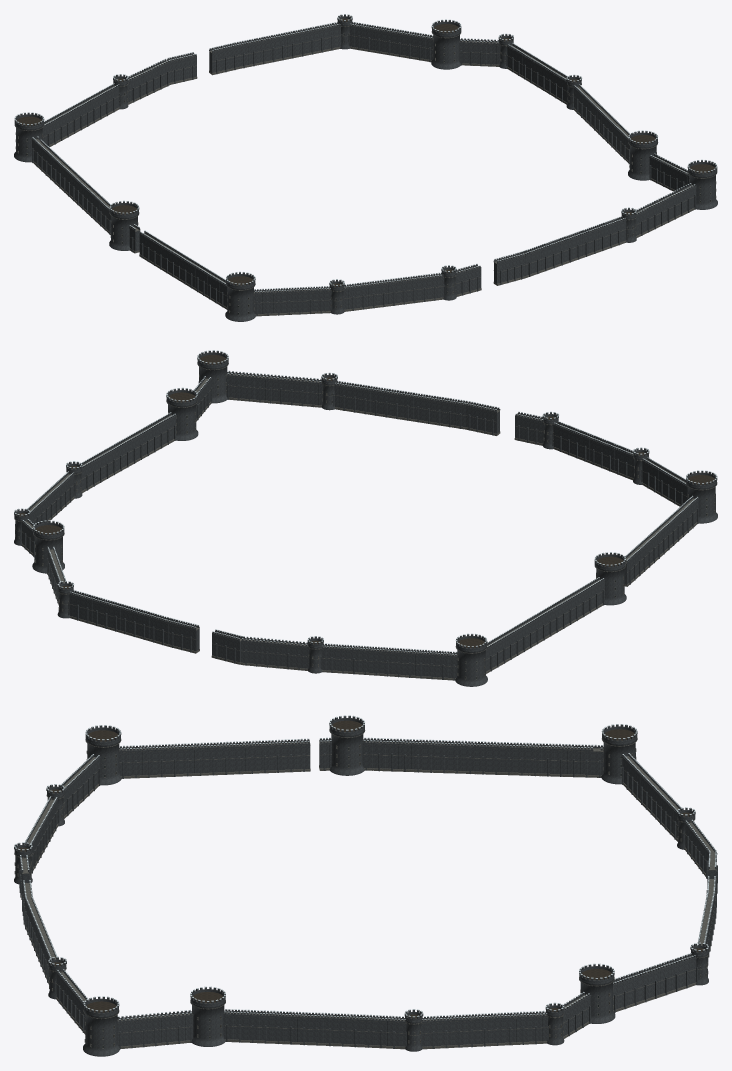
File: outer_walls.glb
3 renders of one model, top to bottom at view 1: azimuth 30°, elevation 25°; view 2: azimuth 150°, elevation 25°; view 3: azimuth 270°, elevation 25°, orthographic. The views are drawn at different scales.
Parts seen in each view (by area): view 1: ENV_R5_Stone, ENV_R5_Trim, ENV_R5_Snow, ENV_R5_Earth; view 2: ENV_R5_Stone, ENV_R5_Trim, ENV_R5_Snow, ENV_R5_Earth; view 3: ENV_R5_Stone, ENV_R5_Trim, ENV_R5_Snow, ENV_R5_Earth.
Boxes of the visible parts, <box> form: ENV_R5_Stone: <box>14,14,717,321</box>; ENV_R5_Trim: <box>14,24,717,316</box>; ENV_R5_Snow: <box>14,14,717,291</box>; ENV_R5_Earth: <box>17,18,715,286</box>; ENV_R5_Stone: <box>14,351,717,686</box>; ENV_R5_Trim: <box>14,362,717,680</box>; ENV_R5_Snow: <box>14,350,717,654</box>; ENV_R5_Earth: <box>16,355,714,648</box>; ENV_R5_Stone: <box>14,716,717,1056</box>; ENV_R5_Trim: <box>14,729,716,1049</box>; ENV_R5_Snow: <box>14,715,716,1019</box>; ENV_R5_Earth: <box>17,720,705,1018</box>.
Size of the model in its own units: 367 by 28.3 by 369.
5 materials, 4 textured.
